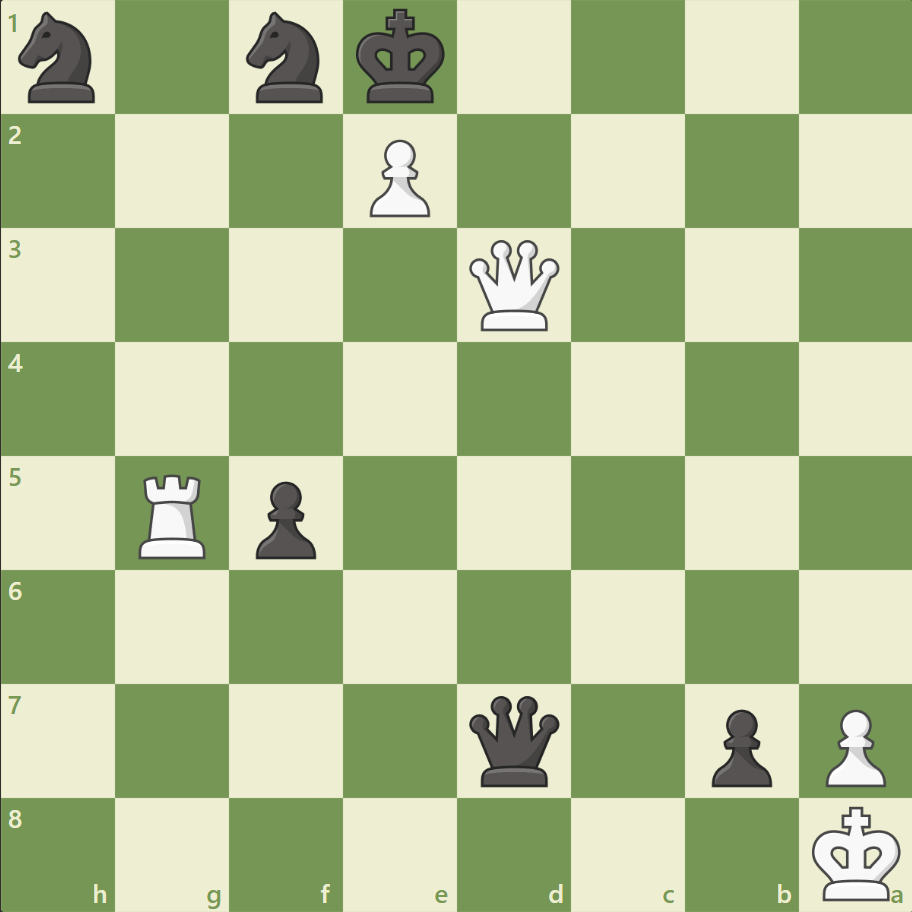K: (806, 798, 906, 906)
P: (815, 700, 889, 791), (361, 132, 435, 223)
Q: (464, 236, 563, 335)
R: (133, 466, 215, 563)
k: (351, 4, 451, 112)
n: (238, 7, 335, 110), (11, 7, 108, 110)
p: (701, 700, 776, 791), (247, 473, 322, 564)
q: (464, 690, 563, 789)
